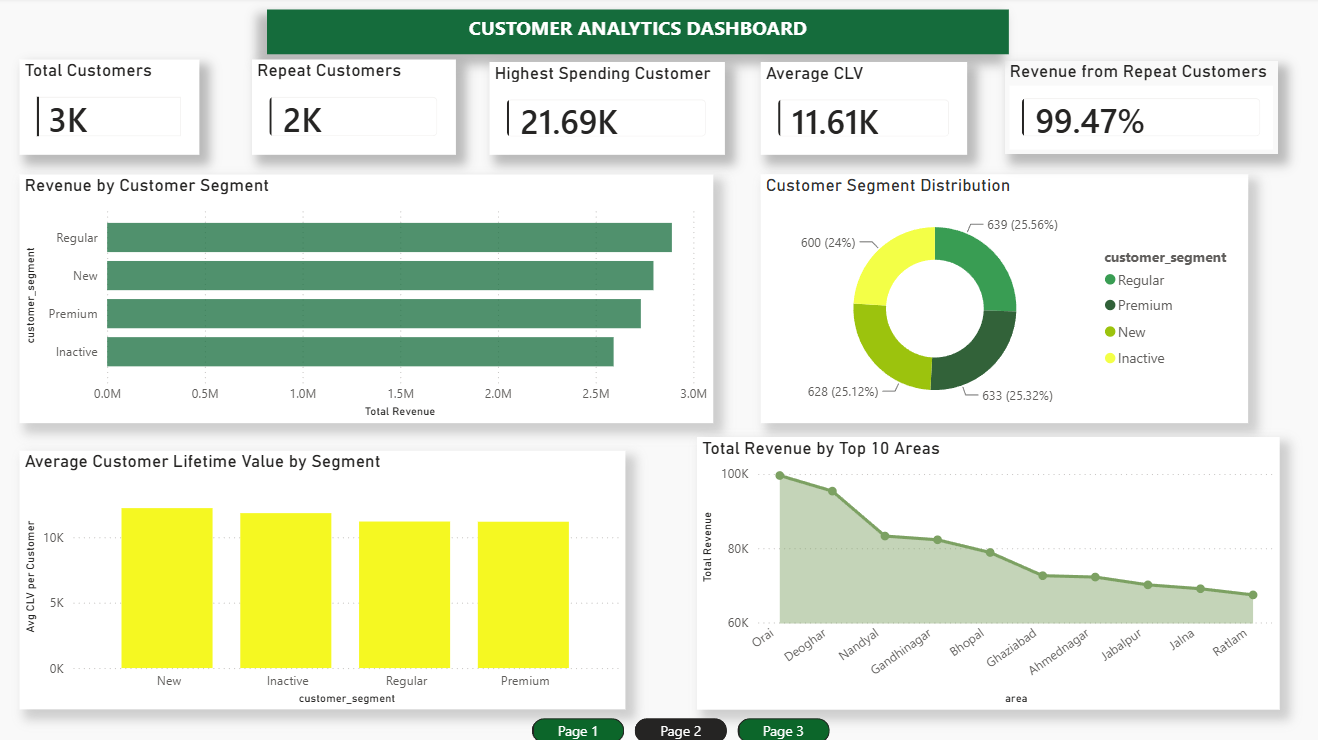

The dashboard page shown, as its layout file describes it:
{"tool":"powerbi","page":{"name":"Page 2","canvas":[1280,720],"ordinal":1},"visuals":[{"type":"textbox","box":[260.6,12.7,716,43],"z":0},{"type":"cardVisual","title":"Total Customers","fields":{"Data":["blinkit_customers.Total Customers"]},"box":[103.7,64.5,194.8,91.1],"z":1000},{"type":"cardVisual","title":"Repeat Customers","fields":{"Data":["blinkit_customers.Repeat Customers"]},"box":[346.6,64.5,196.1,87.3],"z":2000},{"type":"cardVisual","title":"Highest Spending Customer","fields":{"Data":["blinkit_customers.Highest Customer Spend"]},"box":[865,65.1,226.8,86.9],"z":3000},{"type":"cardVisual","title":"Average CLV","fields":{"Data":["blinkit_customers.Average CLV"]},"box":[607.2,64.5,198.6,87.3],"z":4000},{"type":"donutChart","title":"Customer Segment Distribution","fields":{"Category":["blinkit_customers.customer_segment"],"Y":["blinkit_customers.Total Customers"]},"box":[737.1,171.3,470.5,240.1],"z":5000},{"type":"barChart","title":"Revenue by Customer Segment","fields":{"Category":["blinkit_customers.customer_segment"],"Y":["blinkit_orders.Total Revenue"]},"box":[21.7,171.3,669.6,240.1],"z":6000},{"type":"stackedAreaChart","title":"Total Revenue by Top 10 Areas","fields":{"Y":["blinkit_orders.Total Revenue"],"Category":["blinkit_customers.area"]},"box":[675.6,424.7,562.2,263],"z":7000},{"type":"clusteredColumnChart","title":"Customer Lifetime Value by Segment","fields":{"Category":["blinkit_customers.customer_segment"],"Y":["blinkit_customers.Customer CLV"]},"box":[21.7,437.9,585.1,249.7],"z":8000},{"type":"pageNavigator","box":[516.4,696.1,289.5,24.1],"z":9000}]}

Visuals, with their boxes in screenshot pixels (x1, y1, x2, y2), scaled from the page's 1280x720 canvas onto the 1318x740 screenshot:
textbox: <bbox>268, 13, 1006, 57</bbox>
"Total Customers" cardVisual: <bbox>107, 66, 307, 160</bbox>
"Repeat Customers" cardVisual: <bbox>357, 66, 559, 156</bbox>
"Highest Spending Customer" cardVisual: <bbox>891, 67, 1124, 156</bbox>
"Average CLV" cardVisual: <bbox>625, 66, 830, 156</bbox>
"Customer Segment Distribution" donutChart: <bbox>759, 176, 1243, 423</bbox>
"Revenue by Customer Segment" barChart: <bbox>22, 176, 712, 423</bbox>
"Total Revenue by Top 10 Areas" stackedAreaChart: <bbox>696, 436, 1275, 707</bbox>
"Customer Lifetime Value by Segment" clusteredColumnChart: <bbox>22, 450, 625, 707</bbox>
pageNavigator: <bbox>532, 715, 830, 739</bbox>
